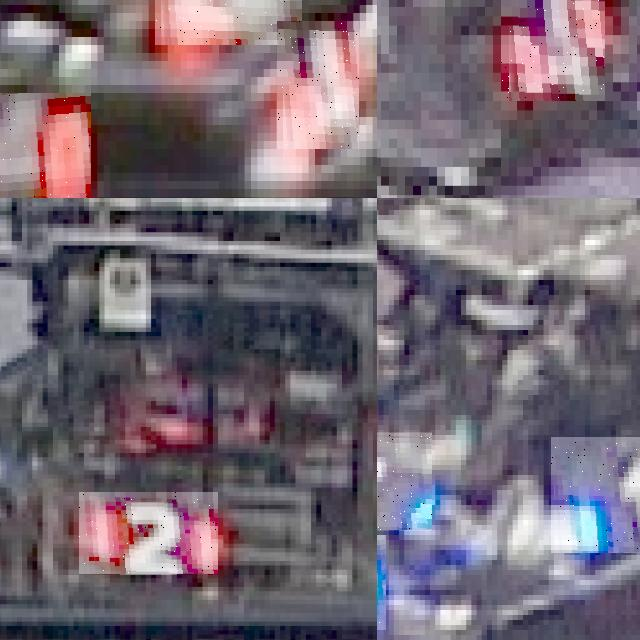B1: (551, 437, 640, 552), (377, 432, 432, 532)
R2: (79, 492, 218, 574)
R4: (501, 0, 605, 101), (277, 21, 359, 149), (0, 93, 91, 198), (155, 0, 302, 45)
